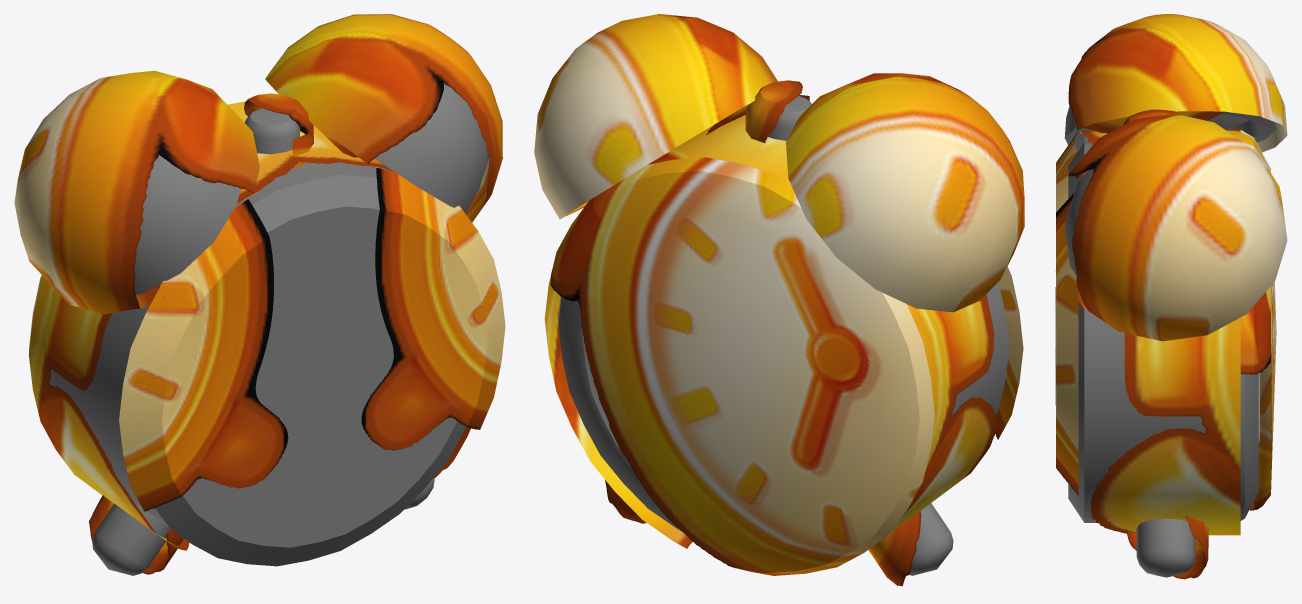
Rendered from booster_clock.fbx.
3 renders of one model, left to right at view 1: azimuth 30°, elevation 25°; view 2: azimuth 150°, elevation 25°; view 3: azimuth 270°, elevation 25°, orthographic. The views are drawn at different scales.
Parts seen in each view (by area): view 1: booster_clock; view 2: booster_clock; view 3: booster_clock.
Part boxes in pixels (box(x1,y1,x2,y2)): booster_clock: box(14, 14, 505, 575); booster_clock: box(534, 14, 1024, 586); booster_clock: box(1055, 14, 1287, 579).
Bounding box in the file's own units: 37.14 × 18.26 × 38.97.
